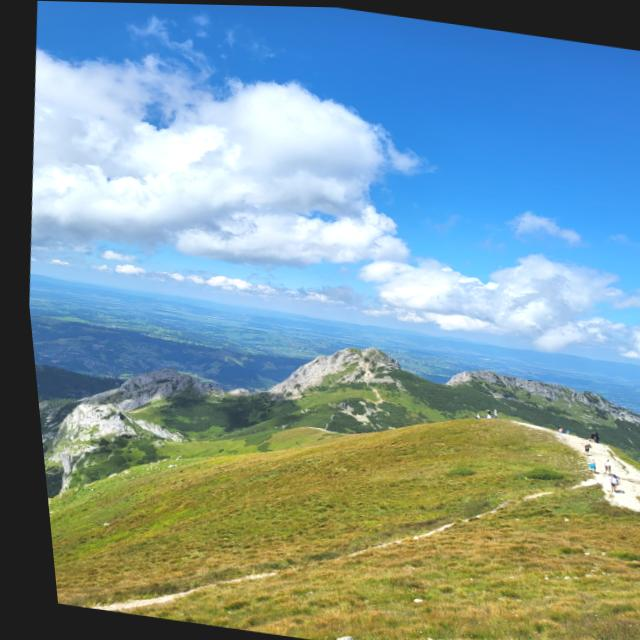Giewont: (259, 274, 488, 422)
Maly giewont: (81, 308, 258, 434)
